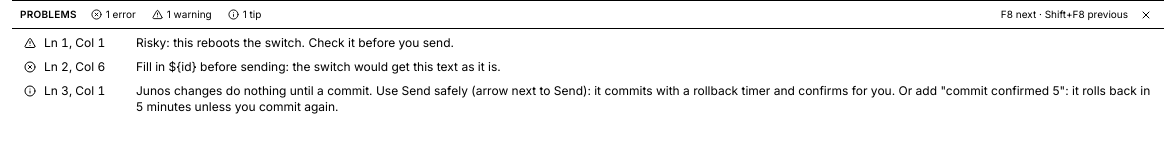
it: ProblemsPanel › hides a kind when its count is clicked
Click the button "1 warning" at (182, 14), box [146, 5, 218, 24]
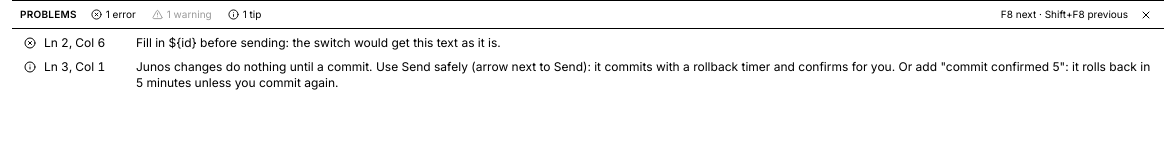
Expected: the text "Fill in ${id}" is shown, [136, 35, 501, 50]
Result: the button "Risky: this reboots the switch" is gone
Click the button "1 error" at (113, 14), box [85, 5, 142, 24]
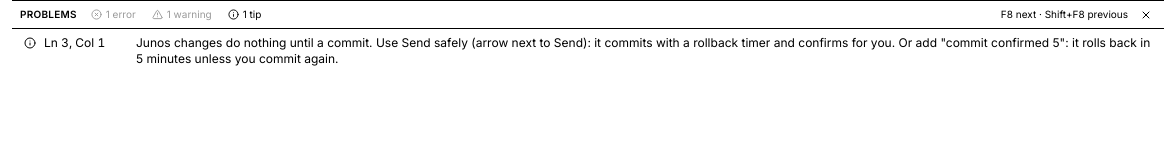
Click the button "1 tip" at (245, 14), box [222, 5, 267, 24]
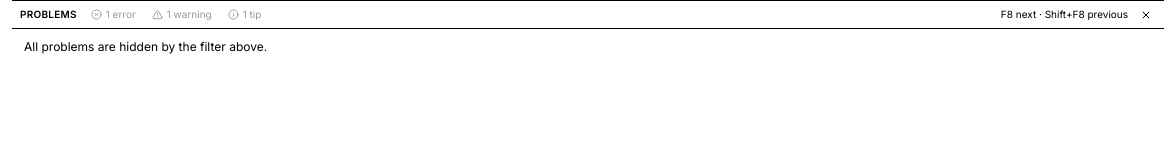
Result: the text "All problems are hidden by the filter above." is shown at [24, 39, 267, 54]
